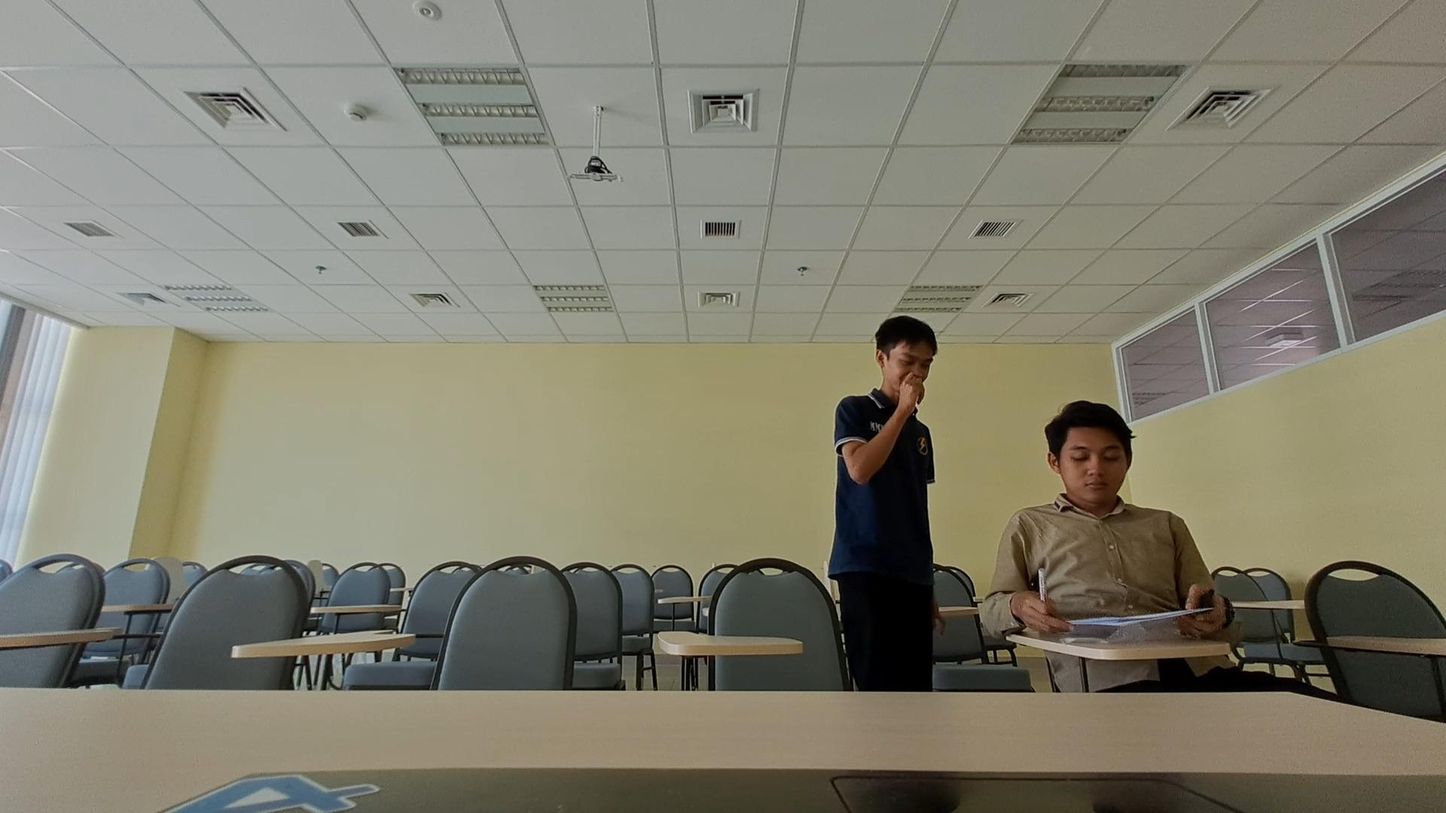phone: (985, 384, 1222, 644)
